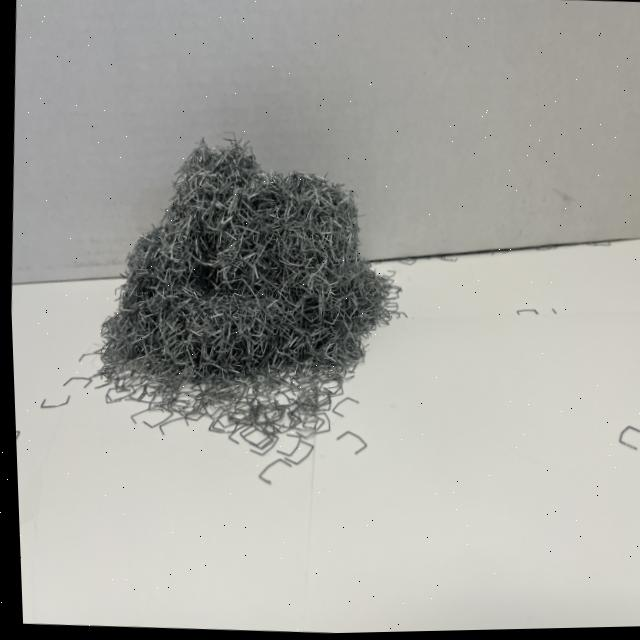staples: (84, 120, 412, 403)
